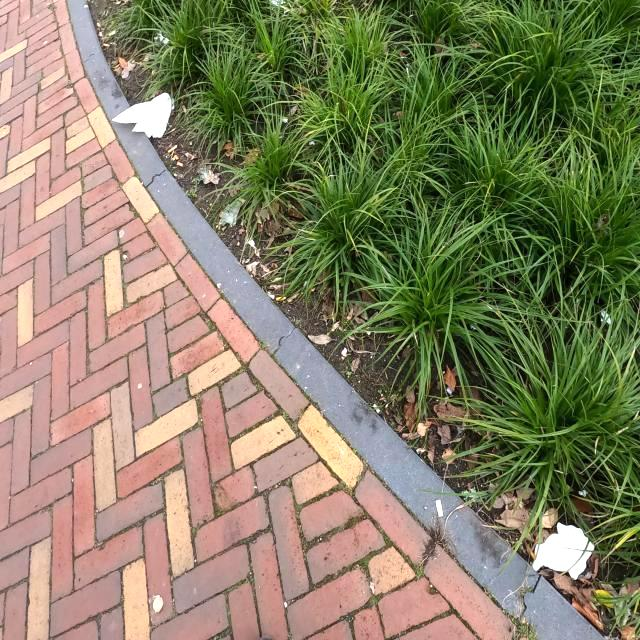Paper: (532, 522, 594, 580), (110, 90, 172, 138)
